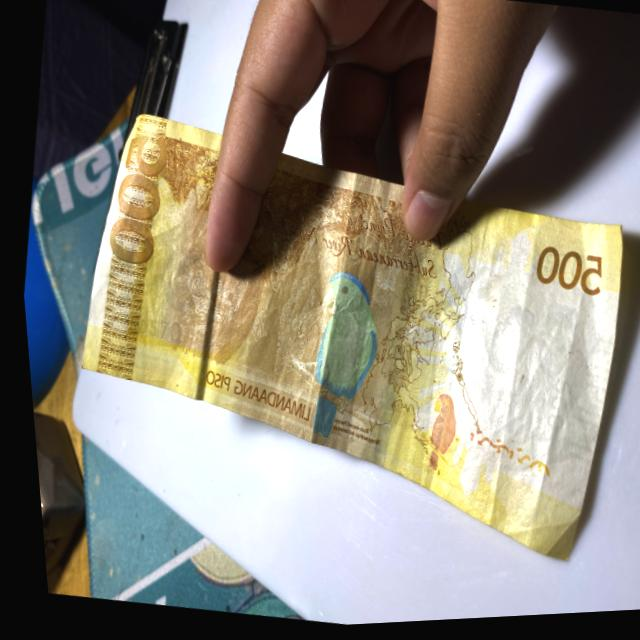500_big_parrot: (287, 268, 388, 452)
500_parrot_watermark: (408, 391, 458, 480)
value_watermark: (534, 381, 569, 445)
